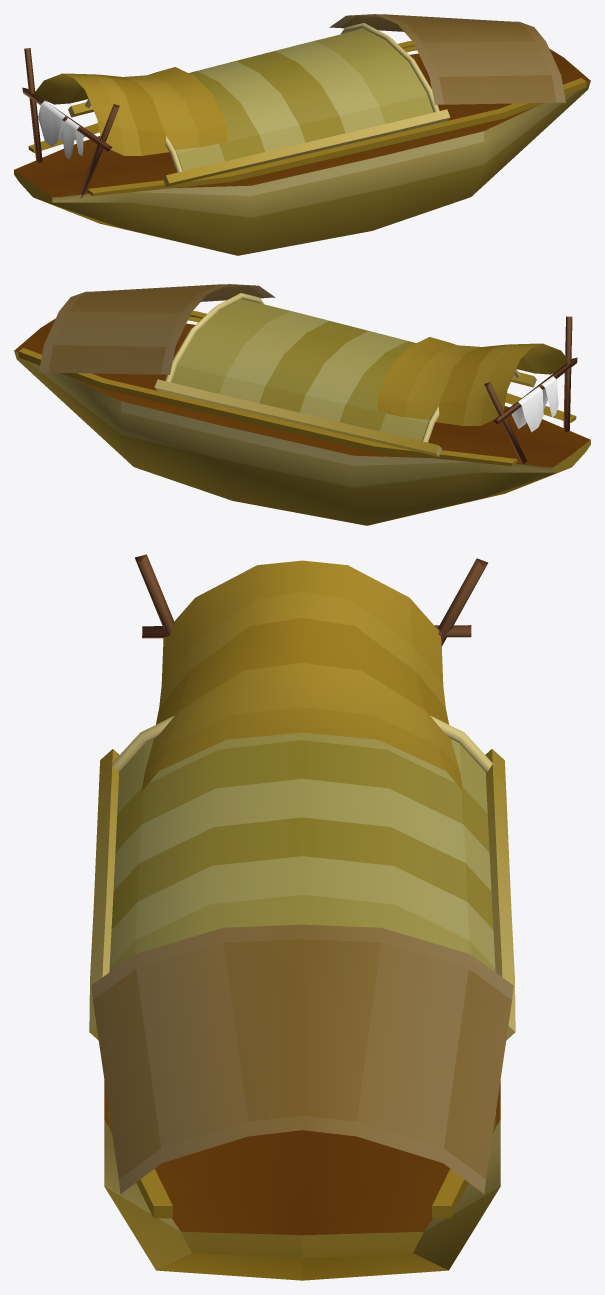
The model's file is SM_Boat_03.fbx.
The picture shows the model from 3 angles, top to bottom: view 1: azimuth 30°, elevation 25°; view 2: azimuth 150°, elevation 25°; view 3: azimuth 270°, elevation 25°; orthographic projection. The views are drawn at different scales.
Parts seen in each view (by area): view 1: SM_Boat_03; view 2: SM_Boat_03; view 3: SM_Boat_03.
Part boxes in pixels (x1,y1,x2,y2): SM_Boat_03: (14, 14, 590, 255); SM_Boat_03: (14, 284, 590, 525); SM_Boat_03: (89, 554, 515, 1280).
Bounding box in the file's own units: 6.6 × 2.41 × 2.29.
